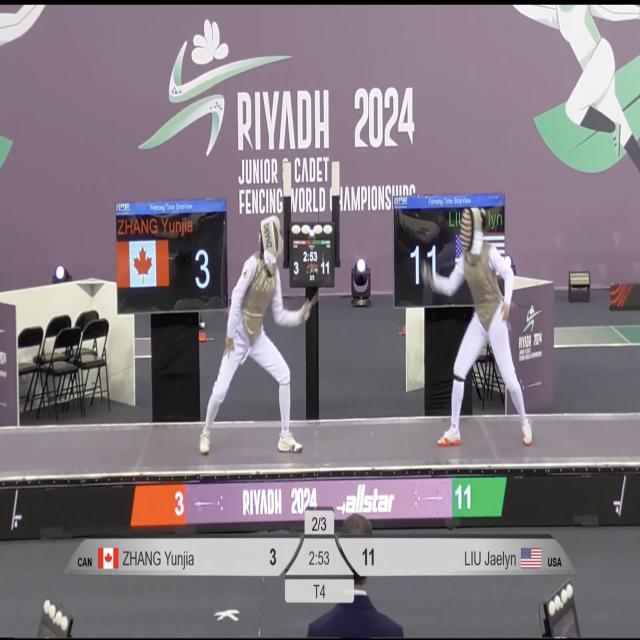fencer: (430, 201, 540, 453), (204, 210, 306, 460)
overlayLeft: (65, 534, 241, 576)
overlayRight: (391, 536, 574, 574)
scoreLeft: (246, 538, 304, 574)
scoreRight: (334, 535, 386, 576)
